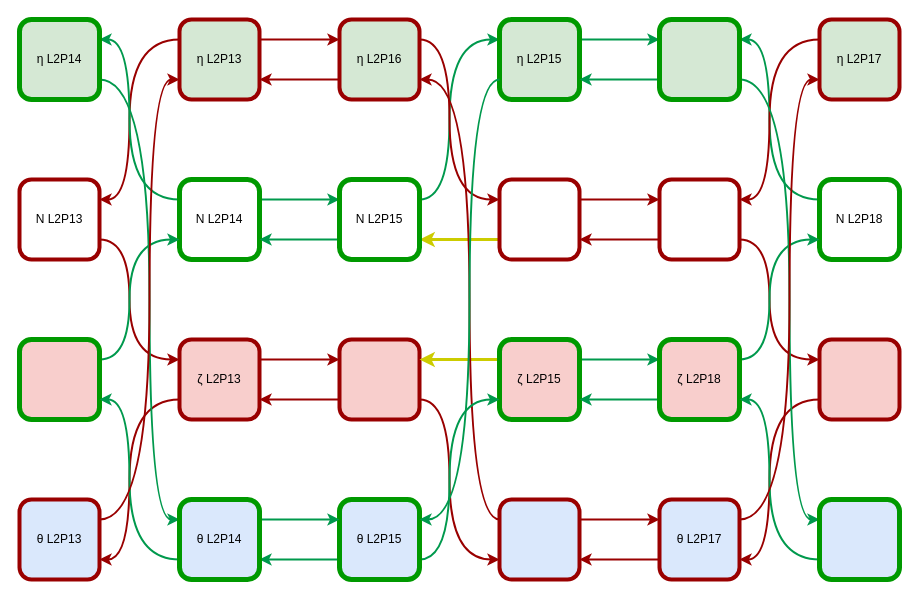
This 919x599 diagram has some shape labels left out. Here are the shapes that lost their labels. From the top down, the centre of each, then its label:
At pixel 699 59: "η L2P18".
At pixel 539 219: "N L2P16".
At pixel 699 219: "N L2P17".
At pixel 59 379: "ζ L2P14".
At pixel 379 379: "ζ L2P16".
At pixel 859 379: "ζ L2P17".
At pixel 539 539: "θ L2P16".
At pixel 859 539: "θ L2P18".
